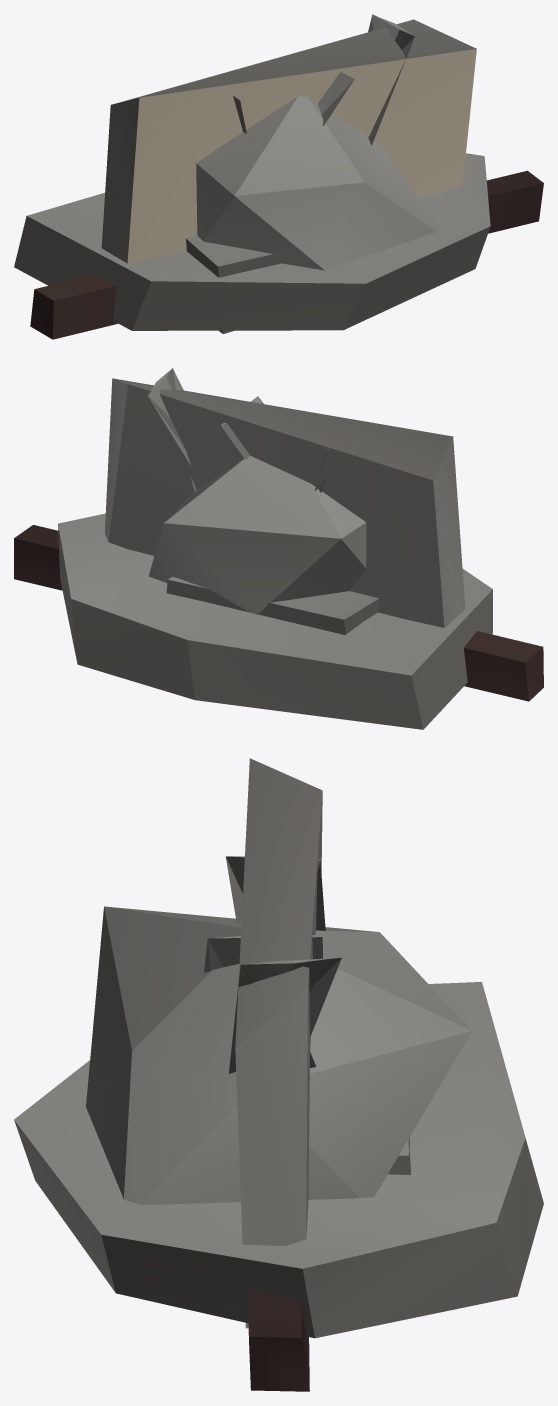
The model's file is rubble_kit.glb.
3 renders of one model, top to bottom at view 1: azimuth 30°, elevation 25°; view 2: azimuth 150°, elevation 25°; view 3: azimuth 270°, elevation 25°, orthographic. The views are drawn at different scales.
Parts seen in each view (by area): view 1: rb_beam; view 2: rb_beam; view 3: rb_beam.
Part boxes in pixels (box(x1,y1,x2,y2)): rb_beam: box(14, 14, 543, 339); rb_beam: box(14, 368, 543, 729); rb_beam: box(14, 758, 543, 1391).
Bounding box in the file's own units: 2.23 × 0.949 × 1.36.
